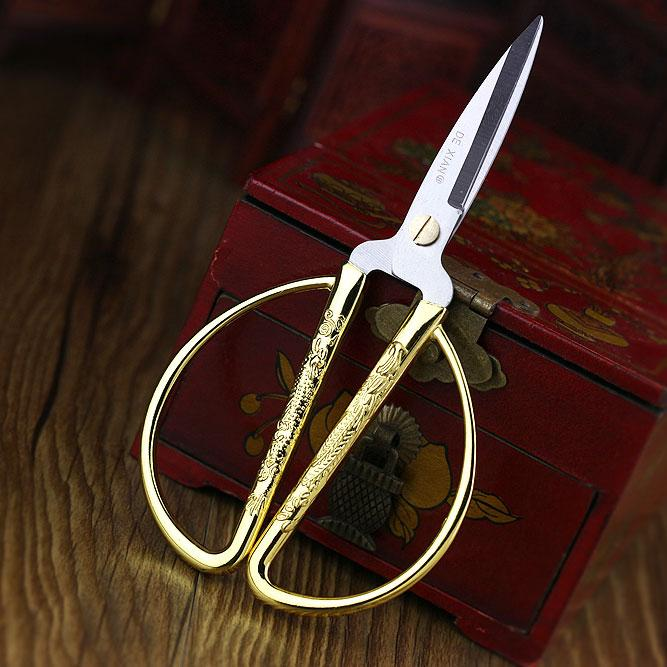scissor: (216, 20, 557, 616)
